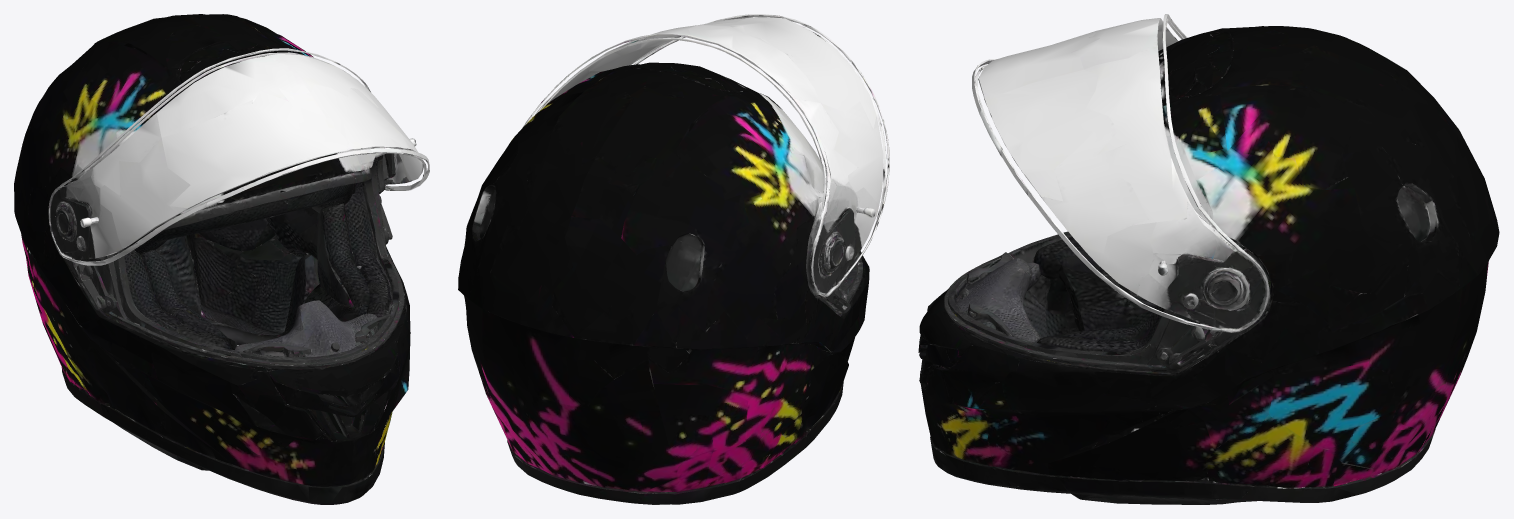
File: helmet.glb
3 views of the same model, side by side, from view 1: azimuth 30°, elevation 25°; view 2: azimuth 150°, elevation 25°; view 3: azimuth 270°, elevation 25° (orthographic). The views are drawn at different scales.
Visible parts, largest first — view 1: Mesh_0; view 2: Mesh_0; view 3: Mesh_0.
Part boxes in pixels (x1=…): Mesh_0: x1=14, y1=14, x2=429, y2=504; Mesh_0: x1=458, y1=14, x2=889, y2=504; Mesh_0: x1=918, y1=14, x2=1499, y2=504.
Bounding box in the file's own units: 0.7538 × 0.815 × 0.9997.
1 material, 1 textured.
